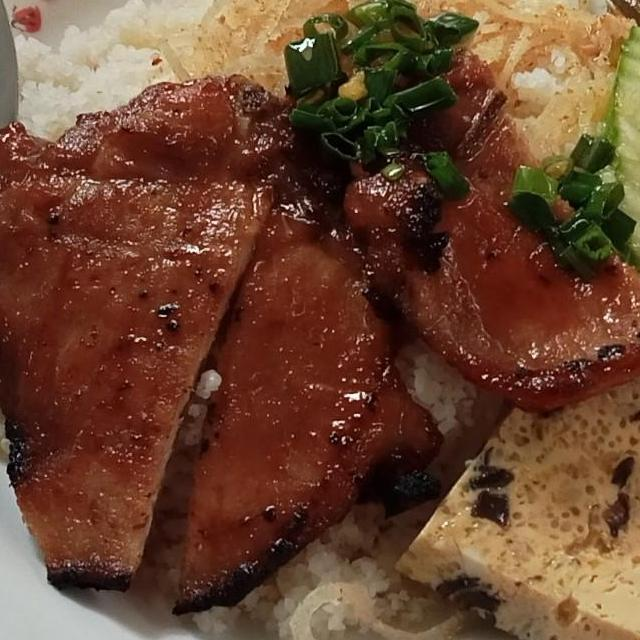bi: (147, 0, 640, 188)
cha: (390, 324, 640, 640)
com: (0, 0, 295, 163), (185, 485, 445, 640), (390, 329, 498, 454)
com suon bi cha: (0, 0, 640, 640)
suon: (0, 70, 458, 619), (336, 54, 640, 420)
